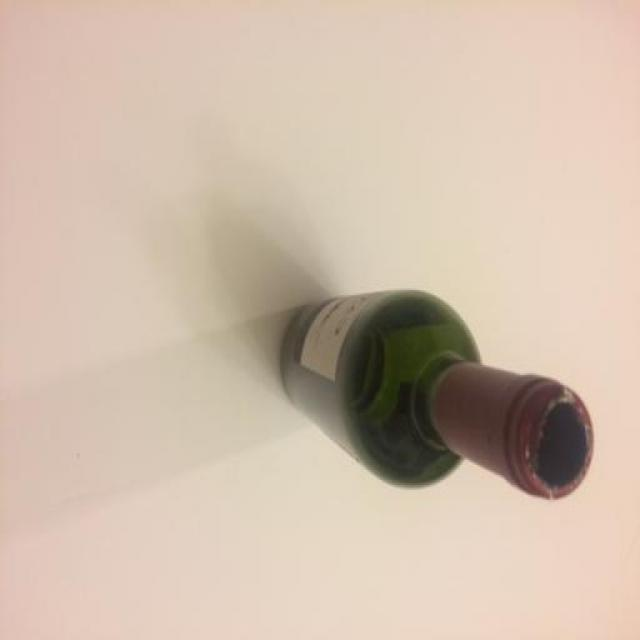glass: (280, 288, 596, 504)
